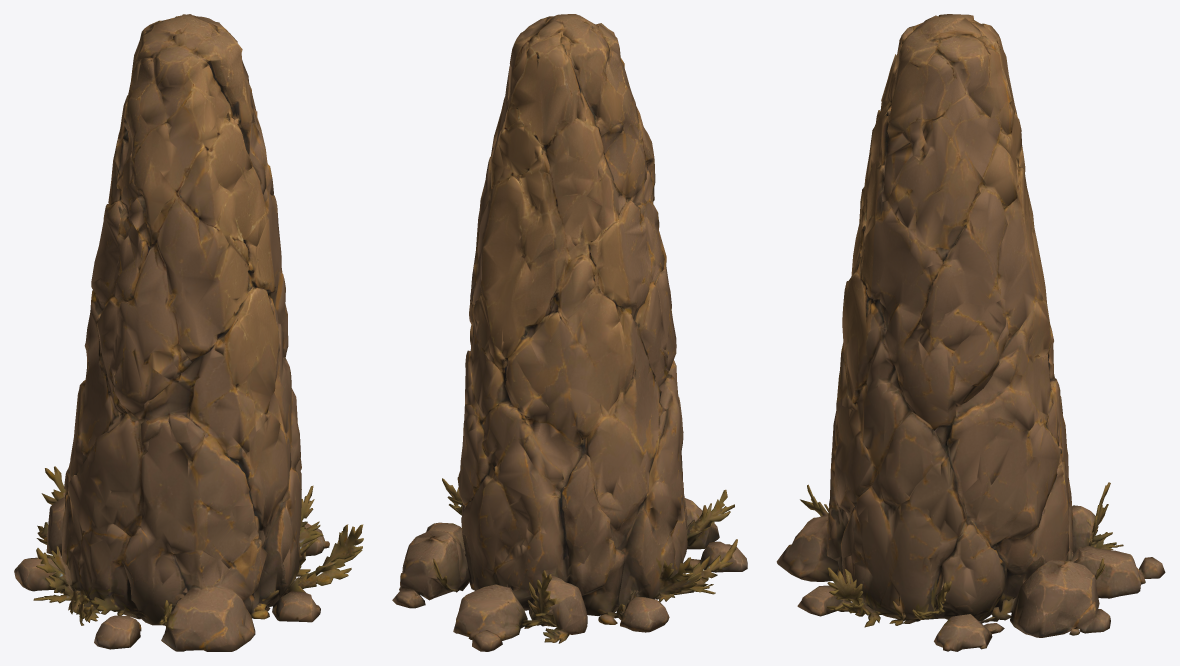
Rendered from monolito_de_roca.glb.
The picture shows the model from 3 angles, left to right: view 1: azimuth 30°, elevation 25°; view 2: azimuth 150°, elevation 25°; view 3: azimuth 270°, elevation 25°; orthographic projection. The views are drawn at different scales.
Visible parts, largest first — view 1: monolito_de_roca; view 2: monolito_de_roca; view 3: monolito_de_roca.
Boxes of the visible parts, x1,y1,x2,y2 form: monolito_de_roca: (14, 14, 363, 651); monolito_de_roca: (392, 14, 747, 651); monolito_de_roca: (776, 14, 1165, 651).
Size of what is drawn, in the model's own units: 2.75 by 5 by 3.12.
Materials: 1 (1 with a texture image).
